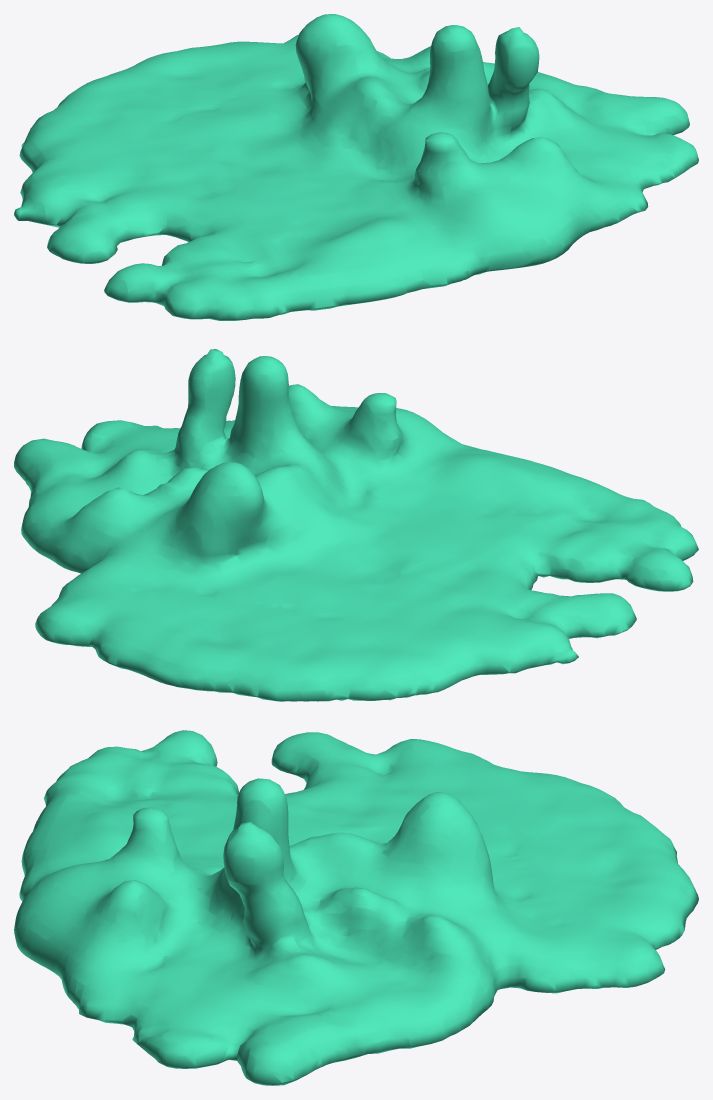
The picture shows the model from 3 angles, top to bottom: view 1: azimuth 30°, elevation 25°; view 2: azimuth 150°, elevation 25°; view 3: azimuth 270°, elevation 25°; orthographic projection. The views are drawn at different scales.
Visible parts, largest first — view 1: Liquid_Domain; view 2: Liquid_Domain; view 3: Liquid_Domain.
Boxes of the visible parts, <box> form: Liquid_Domain: <box>14,14,698,320</box>; Liquid_Domain: <box>14,349,698,701</box>; Liquid_Domain: <box>14,730,698,1085</box>.
Size of the model in its own units: 11.85 by 2.92 by 10.06.
